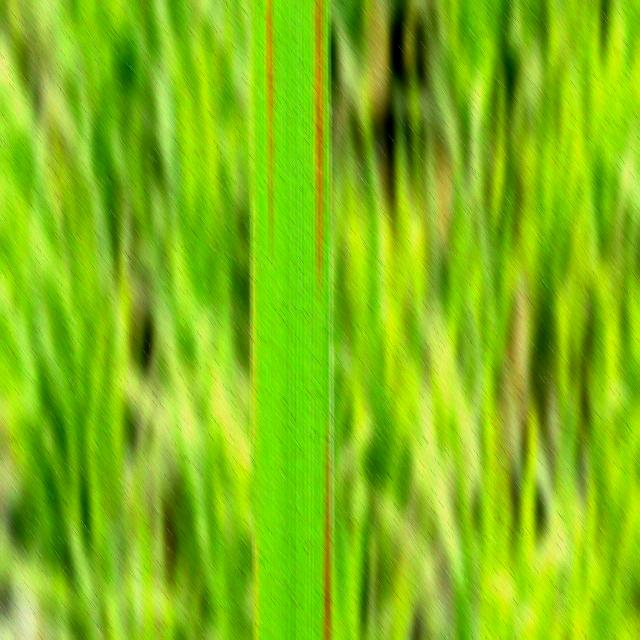NBS: (314, 0, 324, 295), (323, 428, 331, 640), (266, 0, 273, 240)
